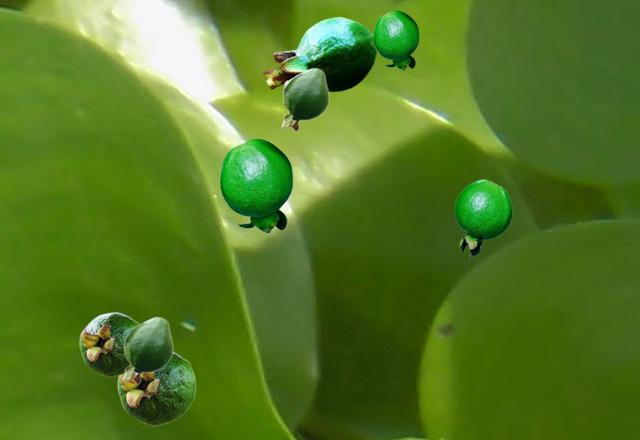guava: (263, 16, 376, 92), (219, 138, 292, 232), (117, 351, 195, 425), (454, 179, 511, 256), (79, 312, 138, 376), (122, 316, 172, 384), (281, 67, 328, 131), (373, 10, 418, 69)
